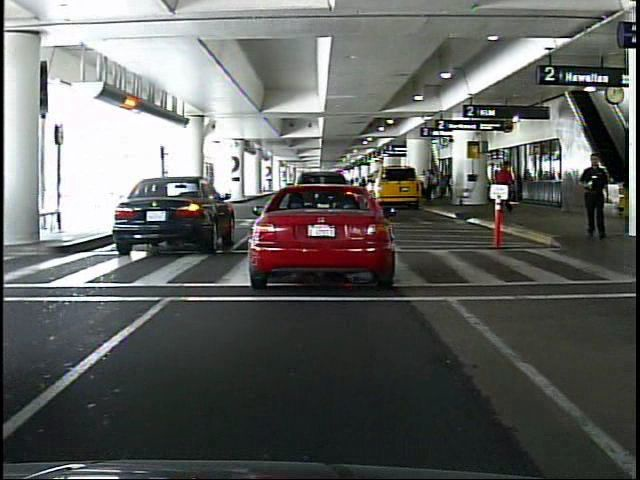person: (579, 151, 610, 242), (492, 159, 514, 214), (419, 165, 432, 202)
